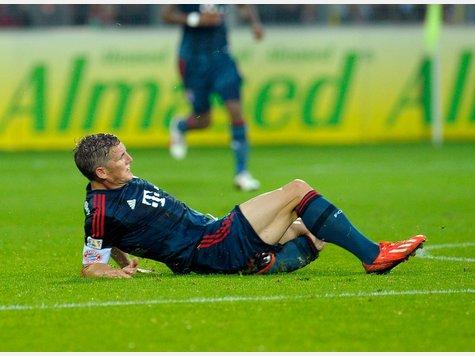fall: (74, 122, 437, 279)
